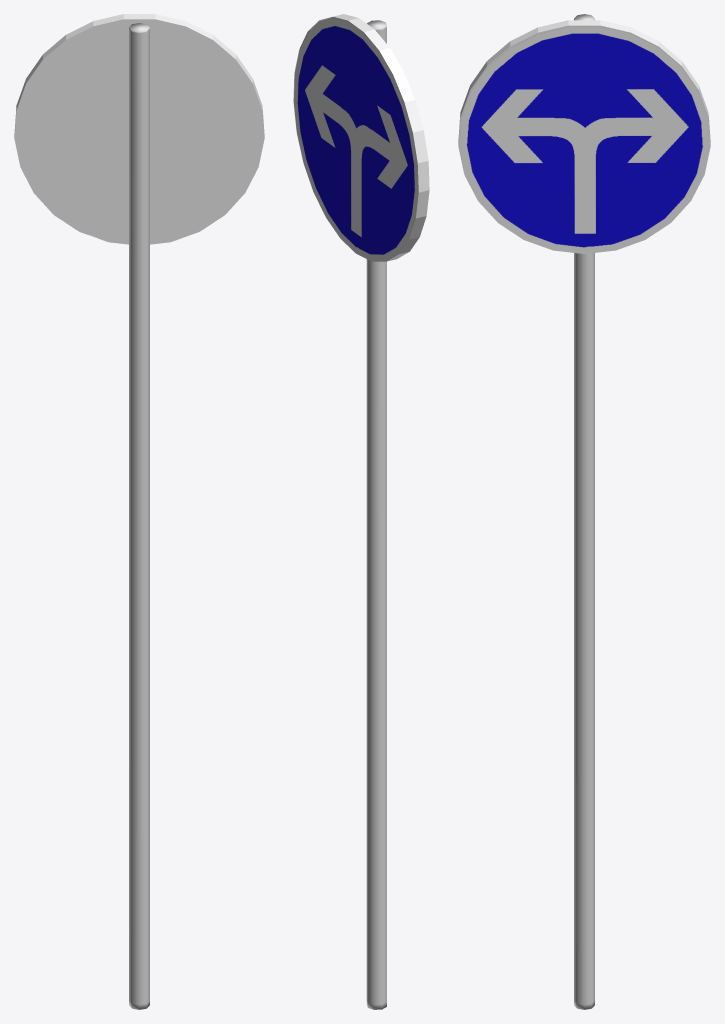
The model's file is sign_no_straight_on.glb.
3 views of the same model, side by side, from view 1: azimuth 90°, elevation 25°; view 2: azimuth 210°, elevation 25°; view 3: azimuth 270°, elevation 25° (orthographic).
Parts seen in each view (by area): view 1: no_straight_on, pole; view 2: no_straight_on, pole; view 3: no_straight_on, pole.
Boxes of the visible parts, left/top/right/bottom form: no_straight_on: left=14, top=14, right=264, bottom=244; pole: left=129, top=23, right=149, bottom=1009; no_straight_on: left=293, top=14, right=429, bottom=261; pole: left=366, top=20, right=386, bottom=1009; no_straight_on: left=458, top=20, right=710, bottom=253; pole: left=574, top=14, right=594, bottom=1009.
Size of the model in its own units: 0.0826 by 2.6 by 0.6.
Materials: 2 (1 with a texture image).
